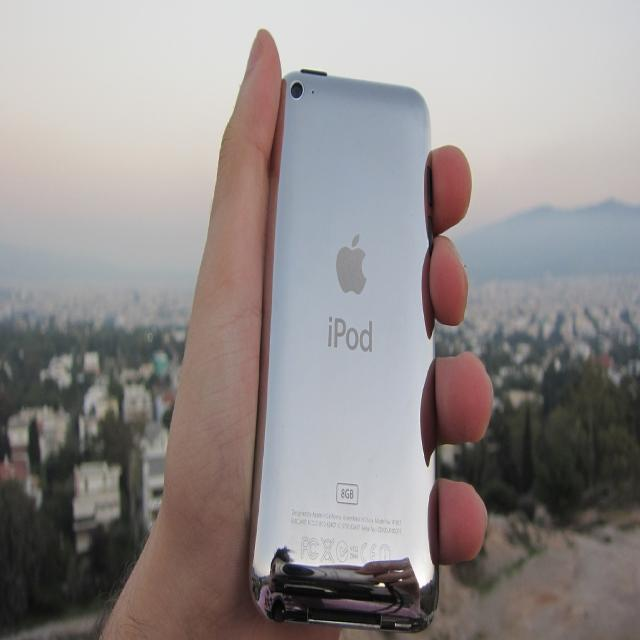apple: (333, 229, 372, 299)
